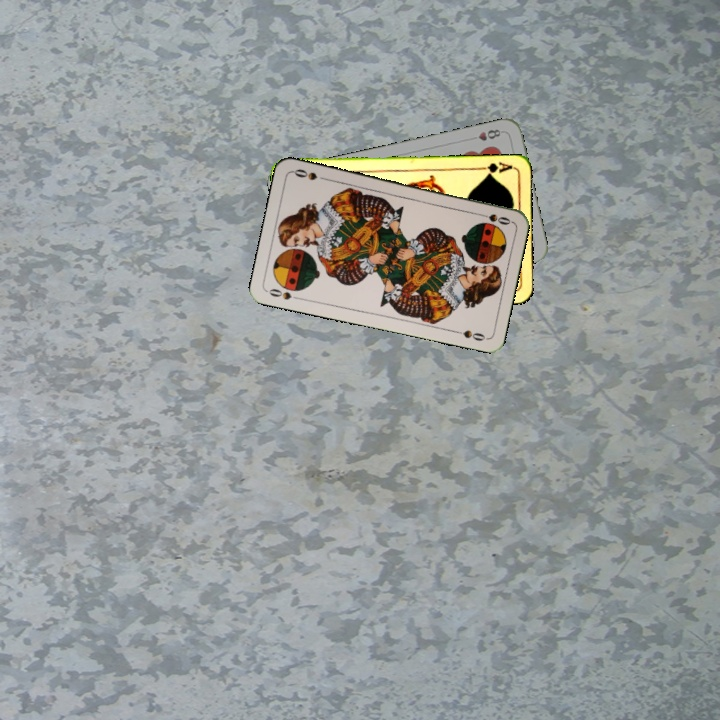GA: (474, 158, 515, 178)
H8: (474, 125, 503, 143)
SO: (473, 209, 513, 228), (265, 285, 304, 303)
